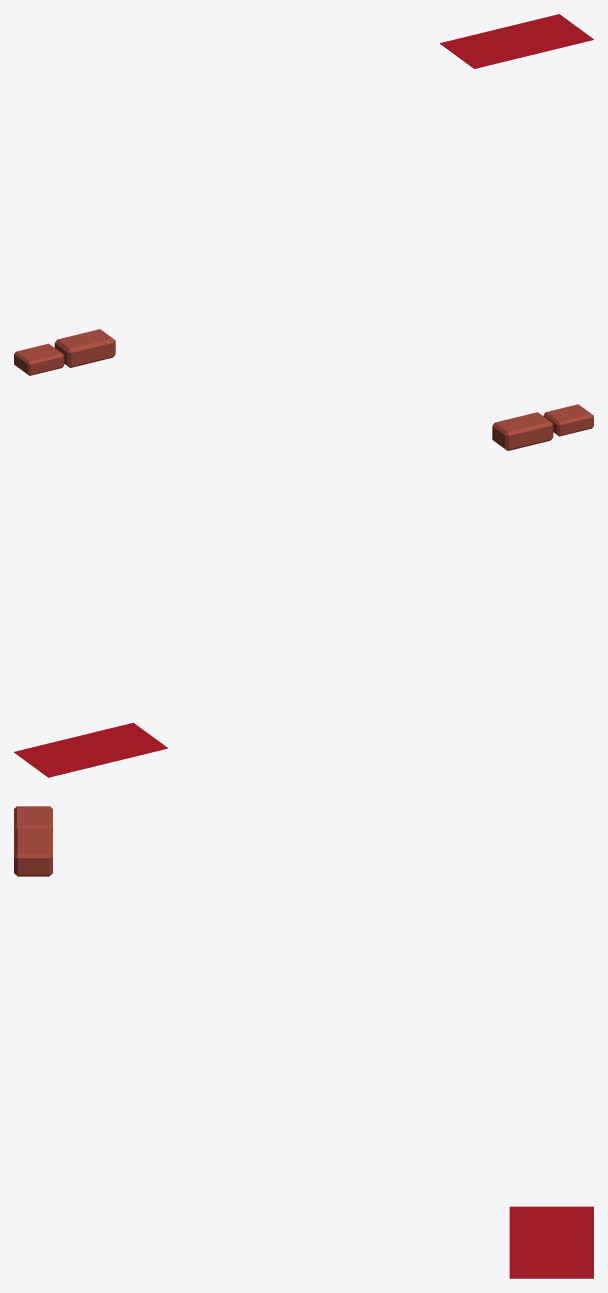
File: D-SHOP.w2.glb
The picture shows the model from 3 angles, top to bottom: view 1: azimuth 30°, elevation 25°; view 2: azimuth 210°, elevation 25°; view 3: azimuth 270°, elevation 25°; orthographic projection. The views are drawn at different scales.
Parts seen in each view (by area): view 1: pal_blood, pal_brick.001; view 2: pal_blood, pal_brick.001; view 3: pal_blood, pal_brick.001.
Part boxes in pixels (x1,y1,x2,y2): pal_blood: [440, 14, 593, 68]; pal_brick.001: [14, 329, 115, 375]; pal_blood: [14, 722, 167, 777]; pal_brick.001: [492, 404, 593, 450]; pal_blood: [509, 1206, 593, 1278]; pal_brick.001: [14, 806, 52, 876].
Bounding box in the file's own units: 16.7 × 0.4 × 8.95.
